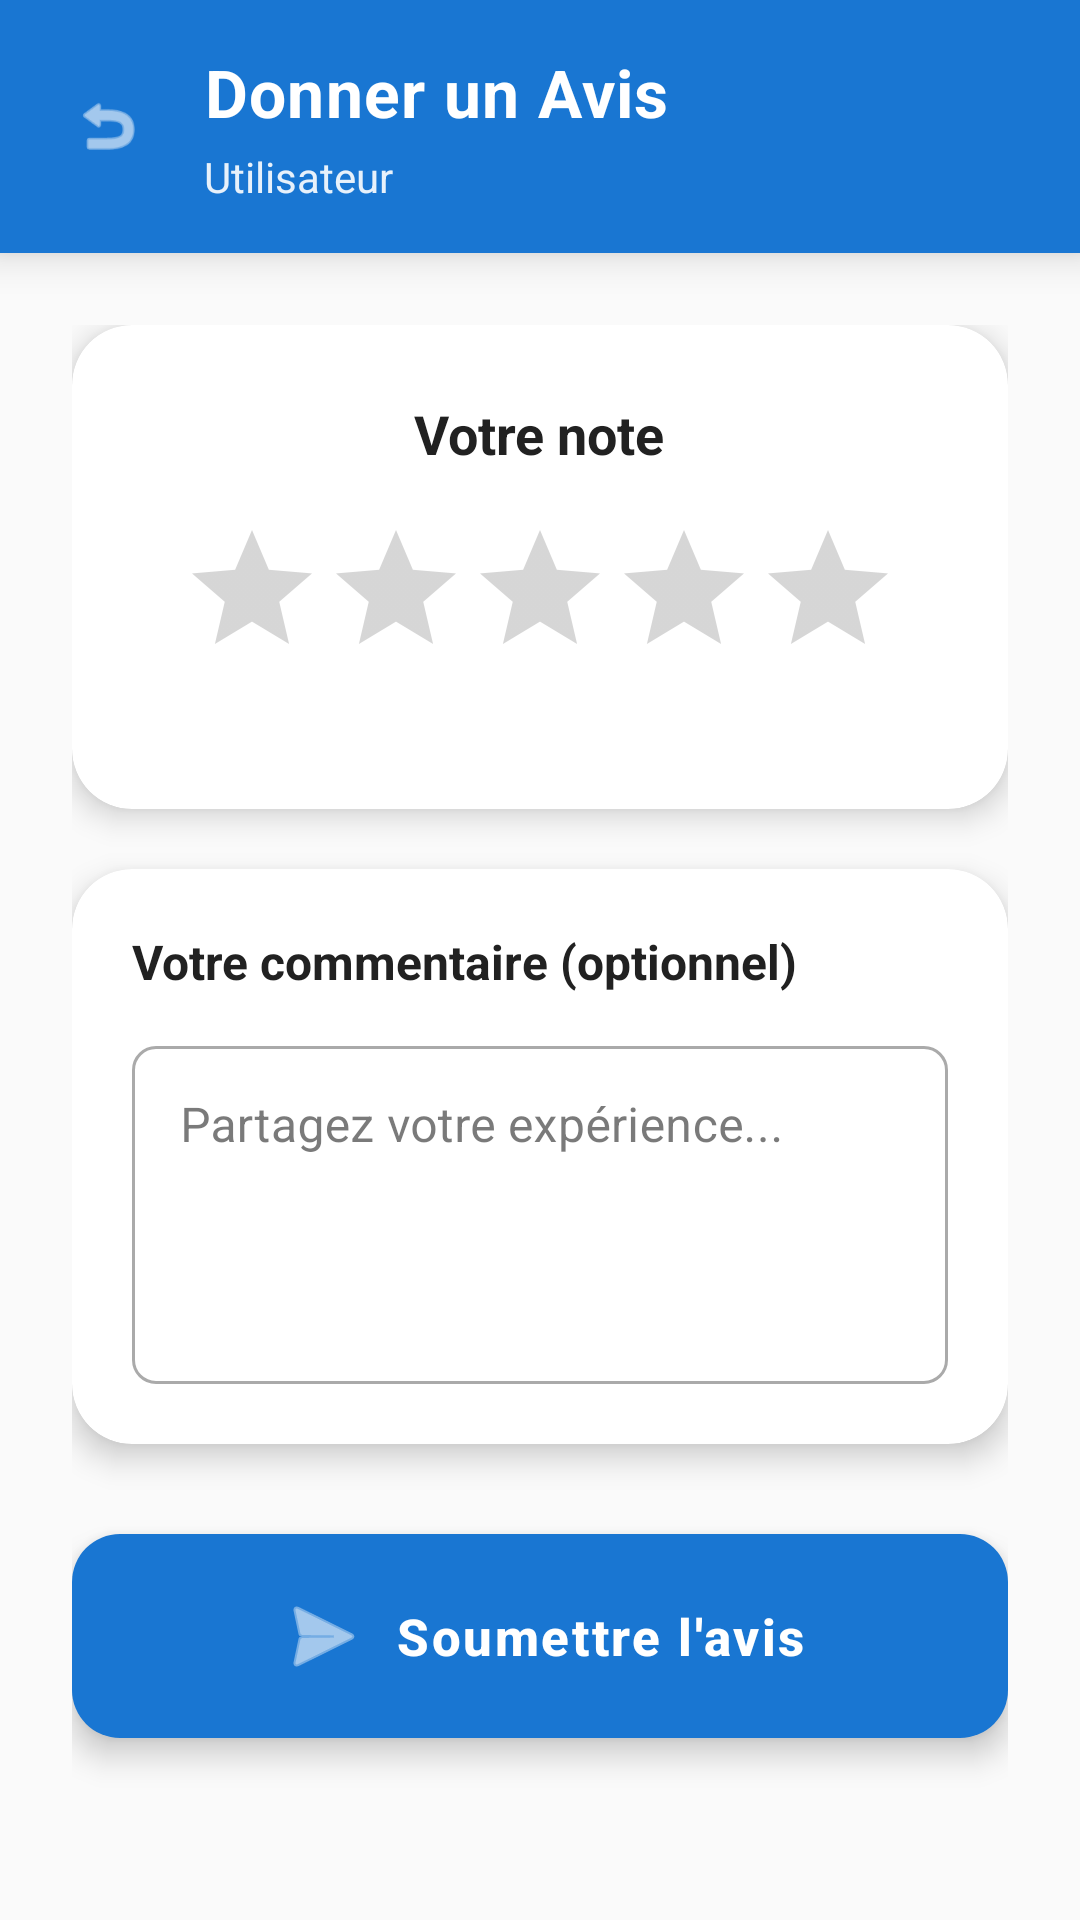

Icon click points for this 1080px x 1920px phone screenshot, format [x,y]:
Retour: [109,126]
